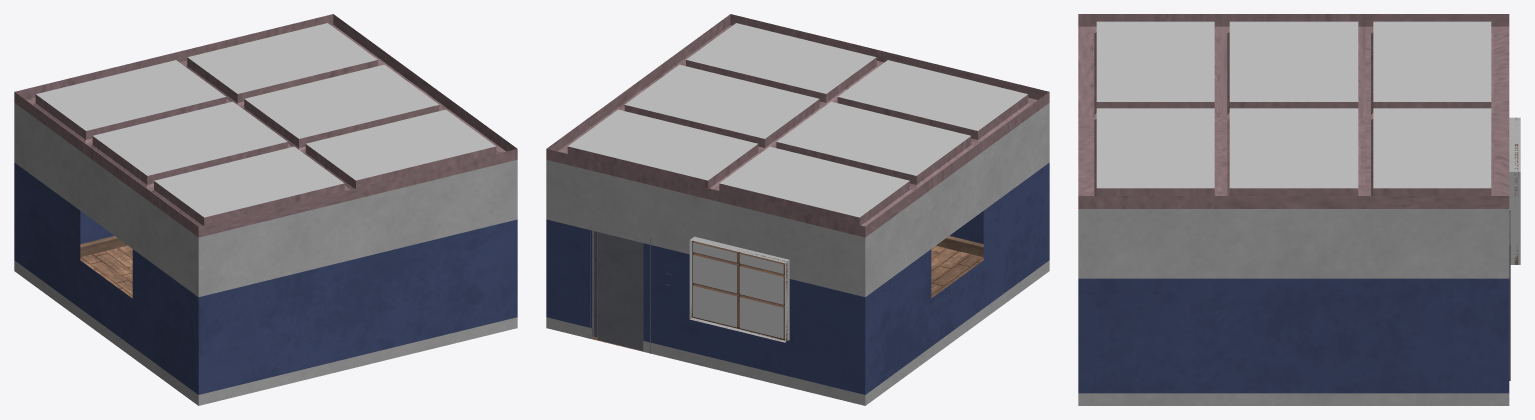
3 renders of one model, left to right at view 1: azimuth 30°, elevation 25°; view 2: azimuth 150°, elevation 25°; view 3: azimuth 270°, elevation 25°, orthographic. The views are drawn at different scales.
Parts seen in each view (by area): view 1: Cube.001, Cube.002, Cube.003, Cube.004; view 2: Cube.001, Cube.002, Cube.009, Cube.006, Cube.003, Cube.005, Cube.004; view 3: Cube.001, Cube.002.
Boxes of the visible parts, x1,y1,x2,y2 form: Cube.001: (14, 103, 517, 405); Cube.002: (14, 14, 517, 237); Cube.003: (80, 245, 132, 298); Cube.004: (80, 236, 127, 256); Cube.001: (546, 103, 1049, 405); Cube.002: (546, 14, 1049, 237); Cube.009: (690, 241, 787, 341); Cube.006: (598, 232, 642, 350); Cube.003: (592, 245, 983, 351); Cube.005: (590, 222, 650, 353); Cube.004: (936, 236, 983, 256); Cube.001: (1078, 117, 1520, 405); Cube.002: (1078, 14, 1509, 208).
Size of the model in its own units: 396 by 213 by 407.
